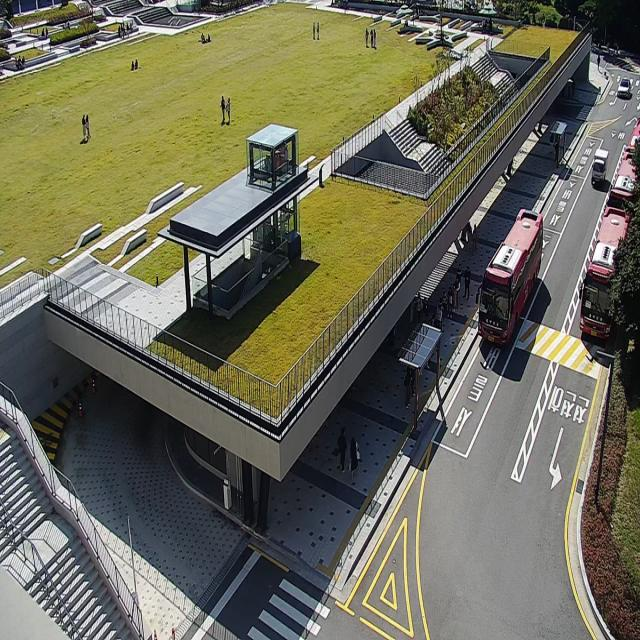queue: (406, 268, 471, 412)
